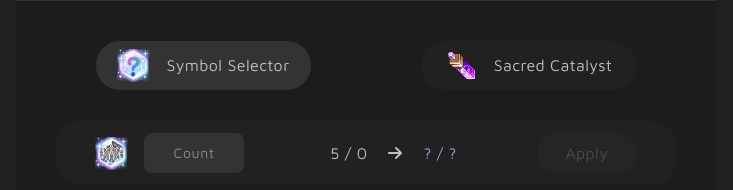
Test: Tools — Catalyst › sacred keeps 60%: Cernium level 5 → 4 / 36
The width and height of the screenshot is (733, 190).
Click the button "Sacred Catalyst" at (528, 65), box [421,41,636,90]
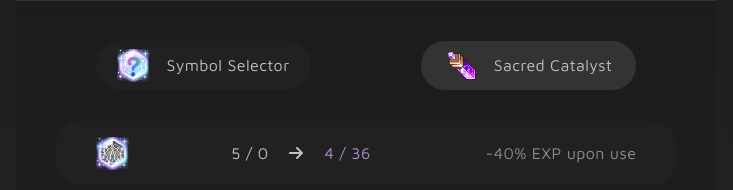
Now the text "4 / 36" is shown, box [324,141,371,165]
Now the text "-40% EXP upon use" is shown, box [486,144,636,162]
